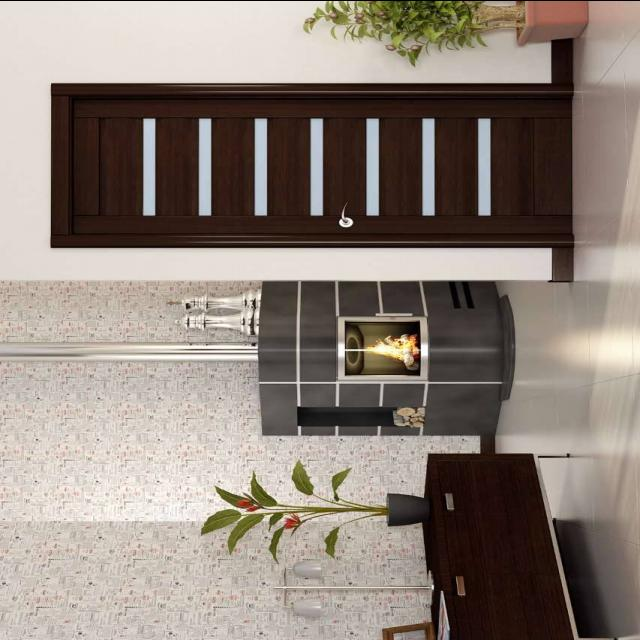close: (58, 83, 564, 245)
